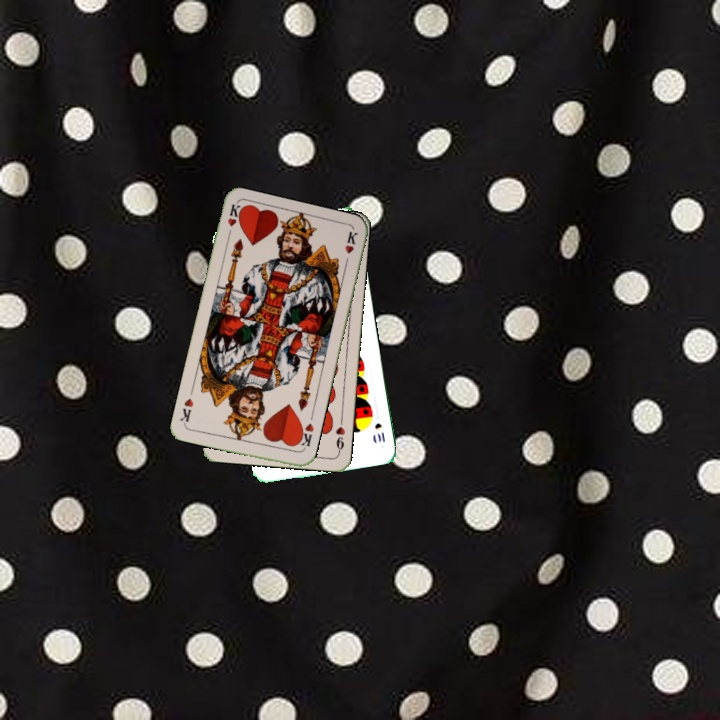H9: (332, 415, 348, 456)
HK: (223, 201, 245, 241), (293, 419, 316, 453)
S10: (371, 419, 387, 445)
